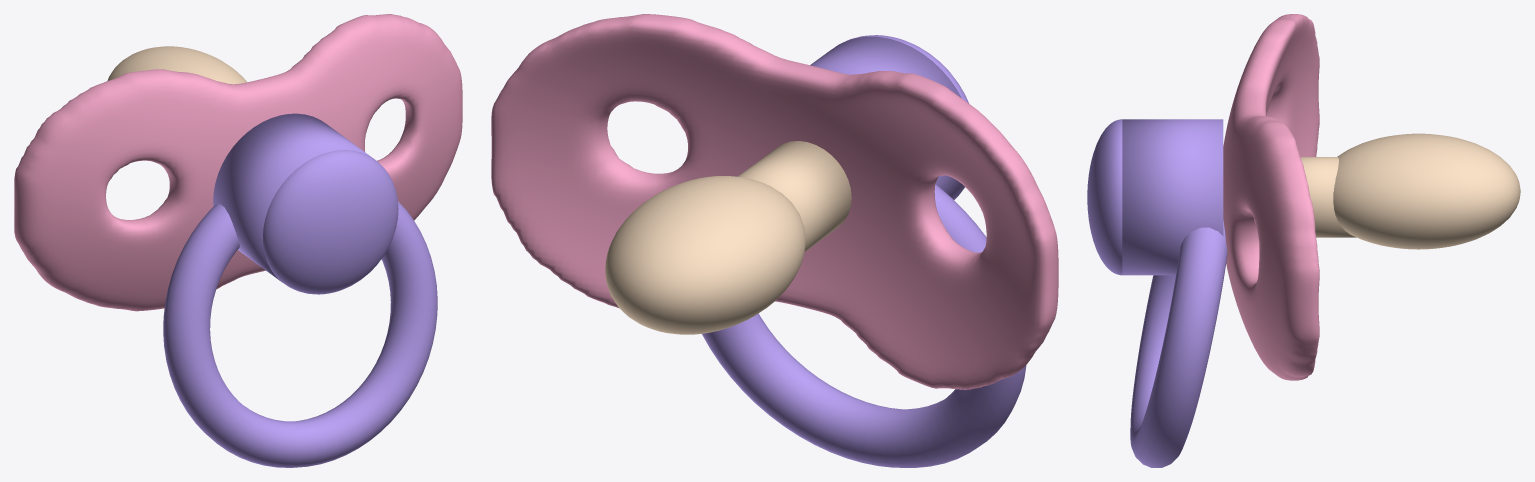
Rendered from pacifier.glb.
3 renders of one model, left to right at view 1: azimuth 30°, elevation 25°; view 2: azimuth 150°, elevation 25°; view 3: azimuth 270°, elevation 25°, orthographic. The views are drawn at different scales.
Visible parts, largest first — view 1: Pacifier; view 2: Pacifier; view 3: Pacifier.
Part boxes in pixels (x1,y1,x2,y2): Pacifier: (14, 14, 462, 467); Pacifier: (491, 14, 1058, 467); Pacifier: (1087, 14, 1520, 467).
Size of the model in its own units: 0.0411 by 0.0328 by 0.0344.
